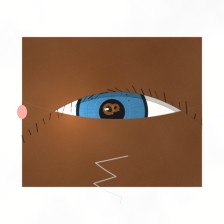foreign_body_visible: (91, 95, 127, 123)
